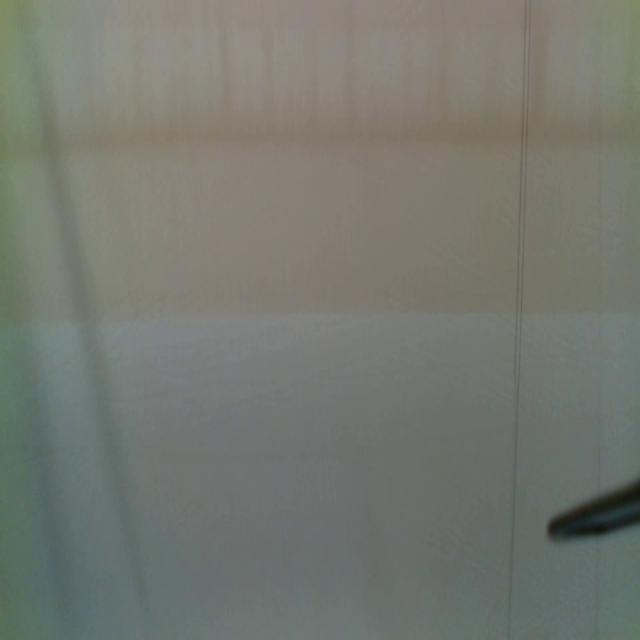color bleeding: (1, 0, 640, 333)
crease: (505, 2, 532, 640)
